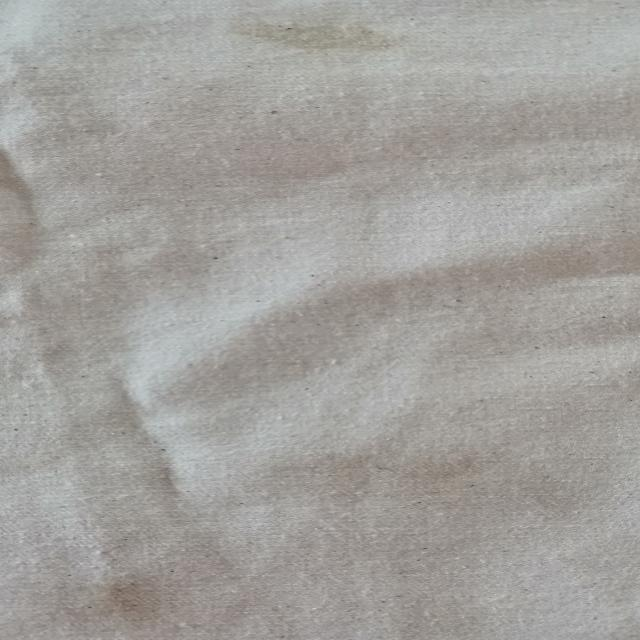taaaches: (232, 14, 450, 64)
